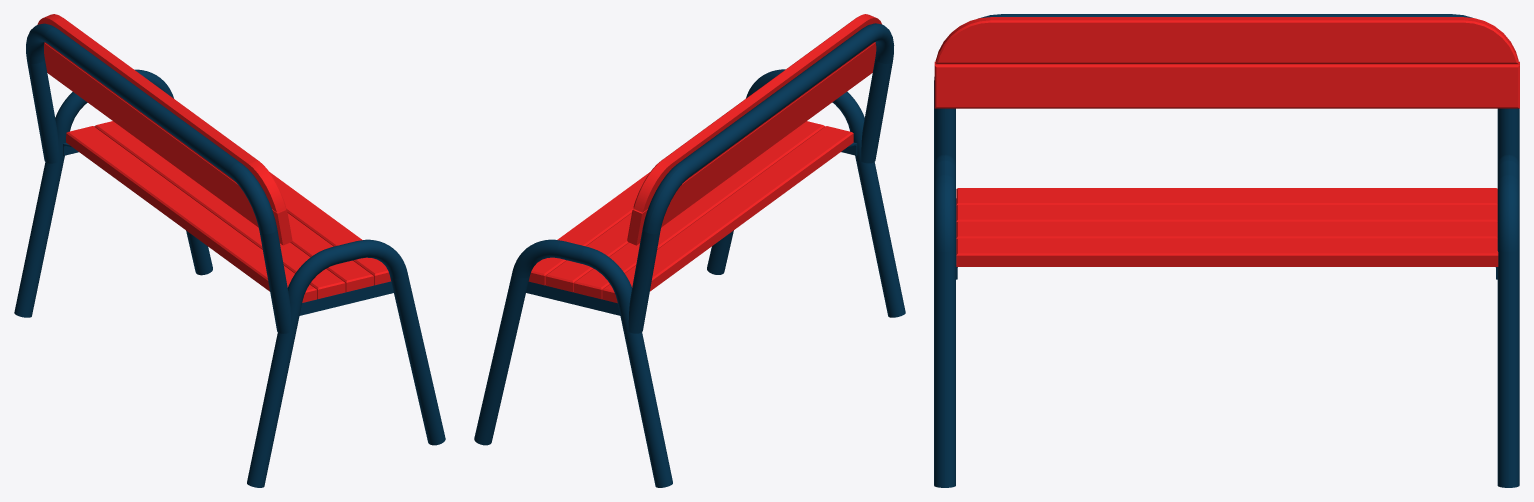
Rendered from uploads_files_3520045_2.FBX.
3 renders of one model, left to right at view 1: azimuth 30°, elevation 25°; view 2: azimuth 150°, elevation 25°; view 3: azimuth 270°, elevation 25°, orthographic. The views are drawn at different scales.
Parts seen in each view (by area): view 1: S721-?????, S721-????9, S721-????8, S721-????6, S721-????1, S721-????5, S721-????2, S721-????4, S721-????7, S721-????0; view 2: S721-?????, S721-????1, S721-????8, S721-????6, S721-????9, S721-????5, S721-????2, S721-????4, S721-????7, S721-????3; view 3: S721-????6, S721-????5, S721-????4, S721-????7, S721-????2, S721-????8, S721-????1, S721-????9, S721-?????.
Part boxes in pixels (x1,y1,x2,y2): S721-?????: (26, 23, 291, 333); S721-????9: (247, 239, 445, 487); S721-????8: (66, 126, 317, 302); S721-????6: (44, 42, 292, 245); S721-????1: (14, 69, 212, 317); S721-????5: (37, 14, 285, 212); S721-????2: (94, 121, 345, 298); S721-????4: (269, 172, 390, 285); S721-????7: (287, 213, 373, 292); S721-????0: (299, 281, 393, 315); S721-?????: (628, 23, 894, 333); S721-????1: (474, 239, 672, 487); S721-????8: (602, 126, 853, 303); S721-????6: (627, 42, 876, 245); S721-????9: (707, 69, 905, 317); S721-????5: (633, 14, 881, 212); S721-????2: (574, 121, 825, 299); S721-????4: (528, 172, 649, 285); S721-????7: (545, 213, 631, 292); S721-????3: (526, 281, 620, 315); S721-????6: (934, 61, 1519, 108); S721-????5: (935, 17, 1518, 63); S721-????4: (956, 238, 1498, 266); S721-????7: (956, 221, 1497, 238); S721-????2: (956, 205, 1497, 222); S721-????8: (956, 188, 1497, 205); S721-????1: (1497, 154, 1519, 487); S721-????9: (934, 154, 955, 487); S721-?????: (934, 14, 1519, 164).
Bounding box in the file's own units: 76.09 × 114 × 162.
